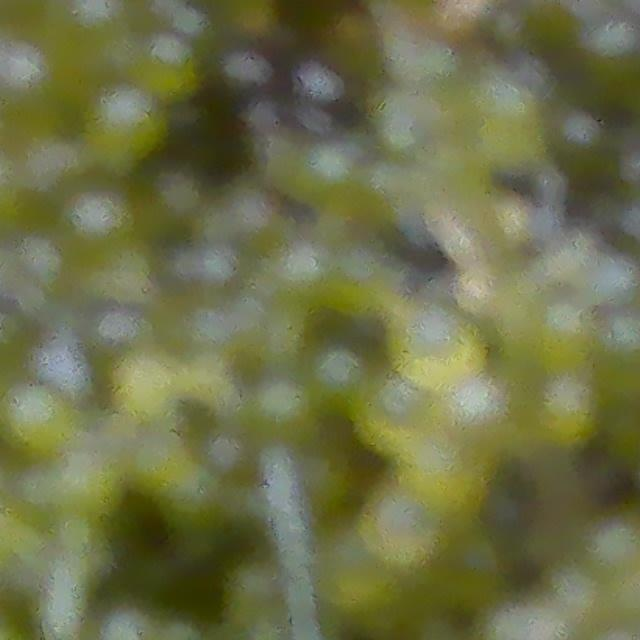SeaGrape: (381, 289, 485, 390), (52, 188, 134, 276), (82, 89, 165, 164), (428, 378, 513, 450), (55, 0, 138, 68), (530, 372, 600, 452), (521, 311, 605, 370), (580, 514, 640, 579), (135, 34, 195, 97), (540, 569, 603, 624)
